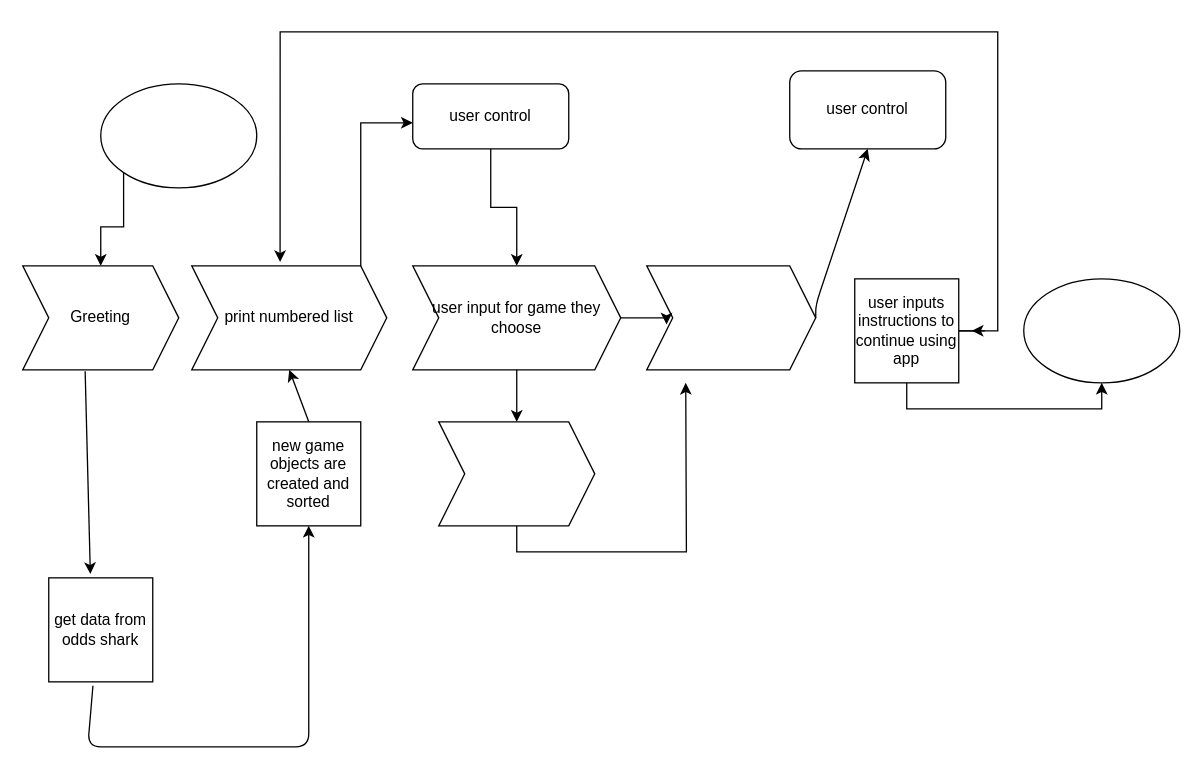
Image size: 1203x780. Some labels were removed from this diagram. The shapes that lost their labels are listed below. From the top down, each one's centre as x and y in pixels, then its label:
point (178, 135): User Starts CLI
point (730, 317): print menu options for user
point (1101, 330): program exits
point (516, 473): retrieve the game the user selected
